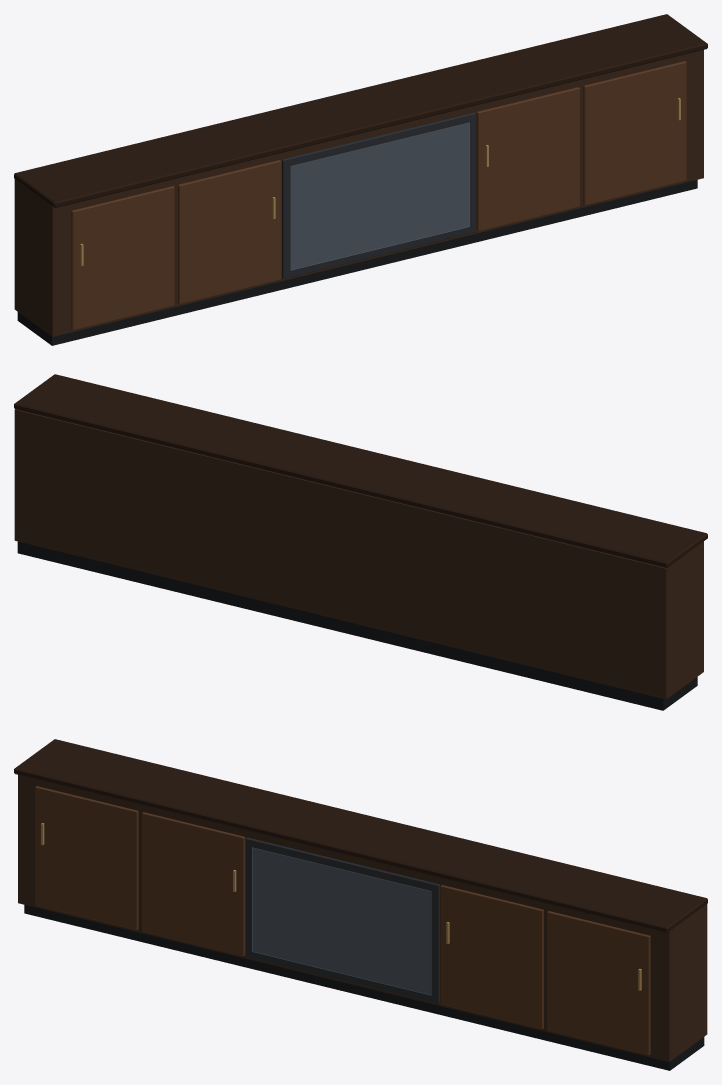
The model's file is back_bar.glb.
3 views of the same model, one above another, from view 1: azimuth 30°, elevation 25°; view 2: azimuth 150°, elevation 25°; view 3: azimuth 330°, elevation 25° (orthographic).
Parts seen in each view (by area): view 1: back_bar; view 2: back_bar; view 3: back_bar.
Part boxes in pixels (x1=…): back_bar: x1=14, y1=14, x2=707, y2=345; back_bar: x1=14, y1=374, x2=707, y2=710; back_bar: x1=14, y1=739, x2=707, y2=1070.
Size of the model in its own units: 4.6 by 1 by 0.5.
